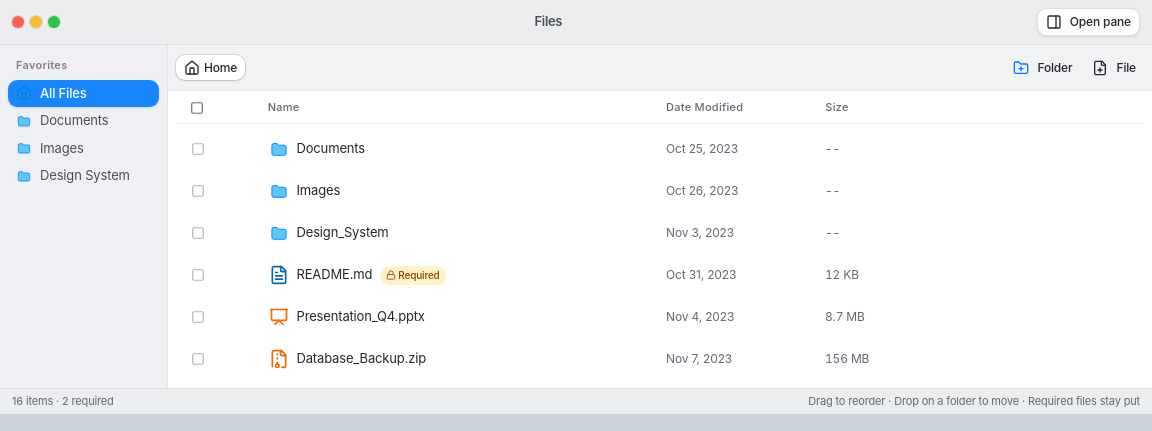
FileExplorer › navigates into a folder on double click
The image size is (1152, 431).
Double-click the element with test id "row-folder-1".
double_click(331, 148)  # box [189,139,840,159]
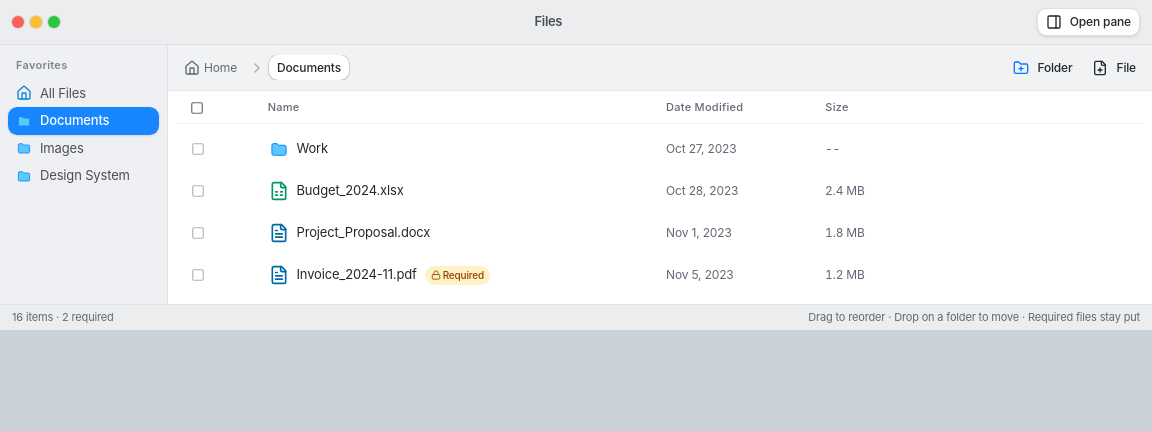
Expected: the 1st button "Documents" is shown, [269,55,349,80]
Now the element with test id "row-file-4" shows "Budget_2024.xlsx", box [296,182,404,198]
Now the element with test id "row-file-7" is gone
